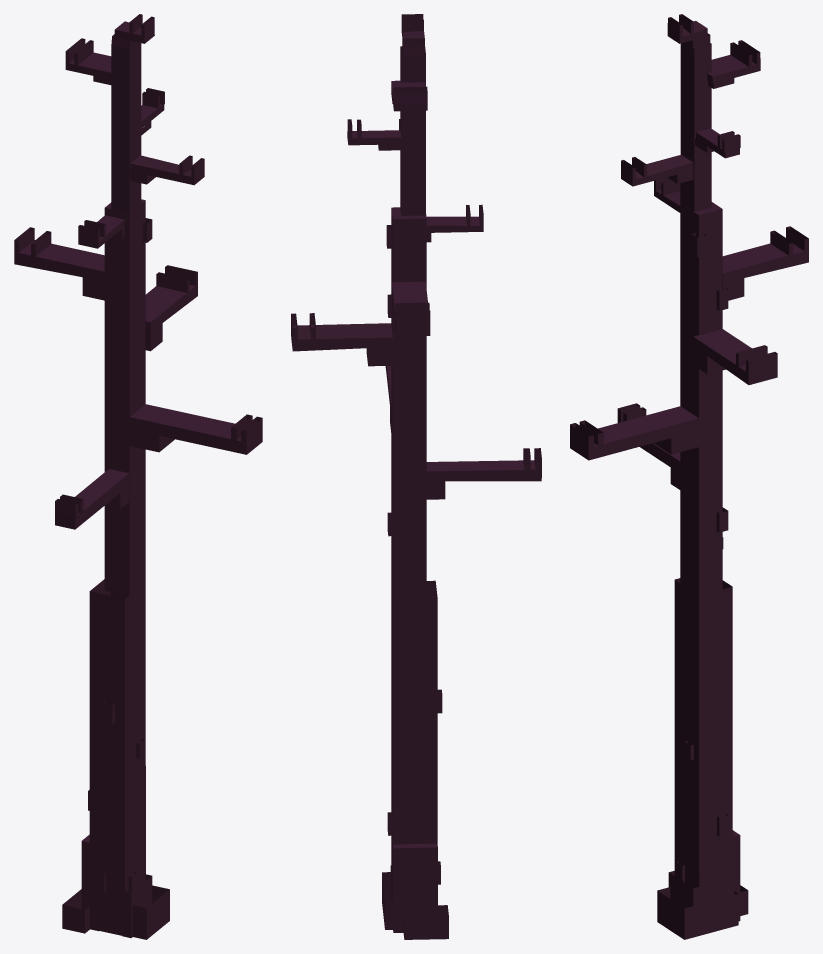
The model's file is TREE3.glb.
The picture shows the model from 3 angles, left to right: view 1: azimuth 30°, elevation 25°; view 2: azimuth 150°, elevation 25°; view 3: azimuth 270°, elevation 25°; orthographic projection. The views are drawn at different scales.
Visible parts, largest first — view 1: Trunk.001; view 2: Trunk.001; view 3: Trunk.001.
Part boxes in pixels (x1,y1,x2,y2): Trunk.001: (14,14,262,939); Trunk.001: (291,14,541,939); Trunk.001: (570,14,808,939).
Size of the model in its own units: 1.58 by 6.89 by 1.65.
